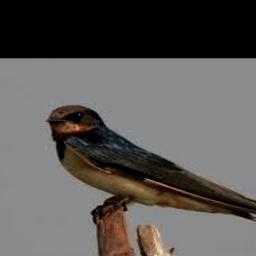Swallow: (47, 106, 256, 223)
